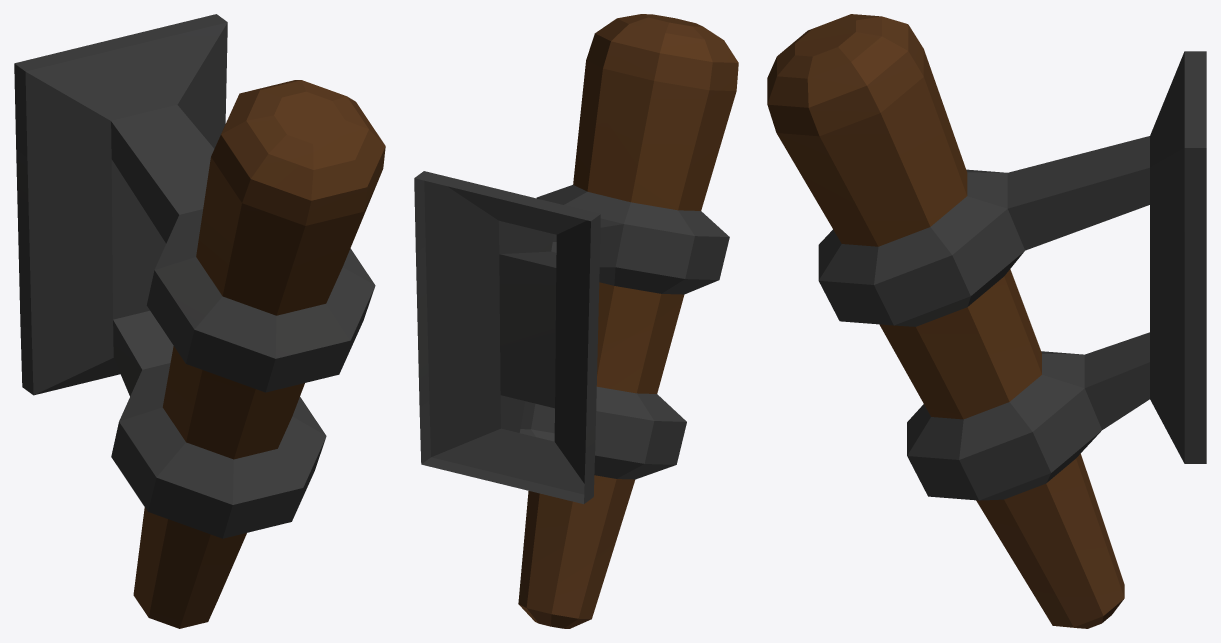
The model's file is Wall_torch.fbx.
The picture shows the model from 3 angles, left to right: view 1: azimuth 30°, elevation 25°; view 2: azimuth 150°, elevation 25°; view 3: azimuth 270°, elevation 25°; orthographic projection. The views are drawn at different scales.
Visible parts, largest first — view 1: Wall_torch; view 2: Wall_torch; view 3: Wall_torch.
Part boxes in pixels (x1,y1,x2,y2): Wall_torch: (14, 14, 385, 628); Wall_torch: (414, 14, 738, 628); Wall_torch: (767, 14, 1206, 628).
Bounding box in the file's own units: 21.33 × 61.51 × 40.89.
